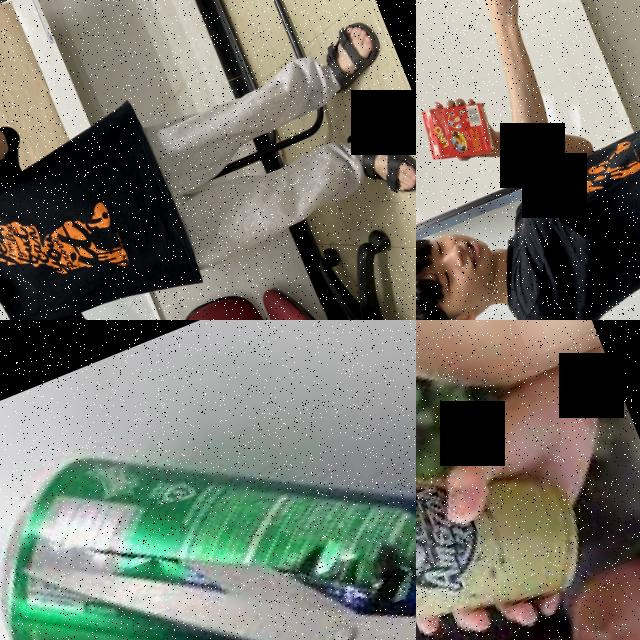cup: (416, 366, 602, 640)
